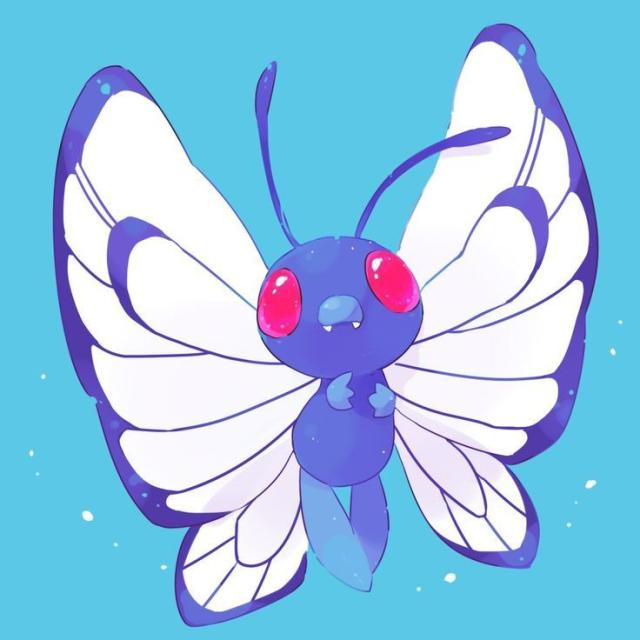Butterfree: (106, 195, 543, 572)
